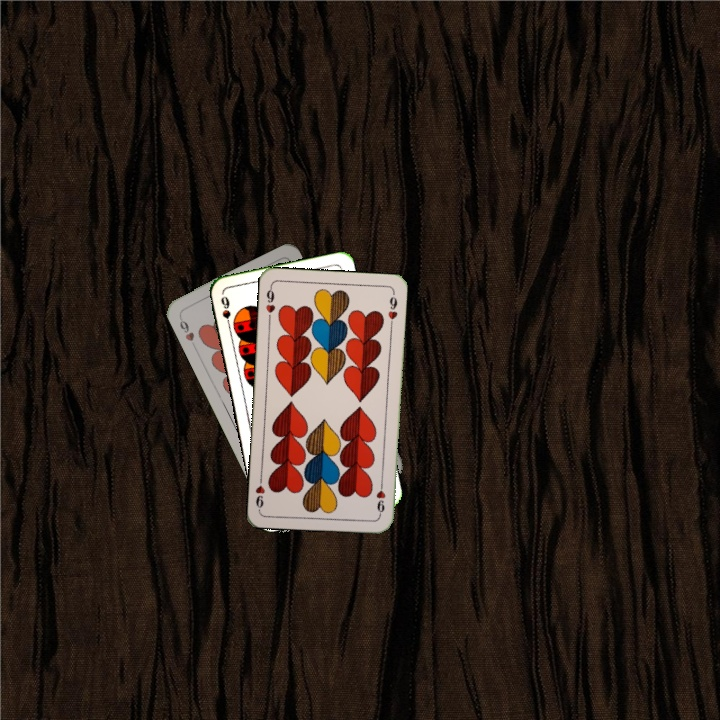H9: (175, 312, 198, 350), (372, 477, 388, 518), (262, 282, 277, 323)
S9: (217, 292, 233, 331)
